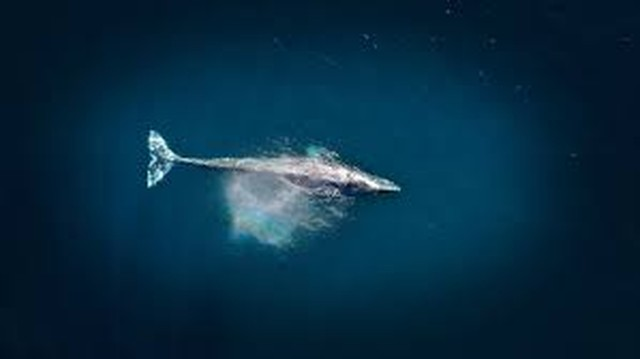whale: (139, 125, 410, 200)
